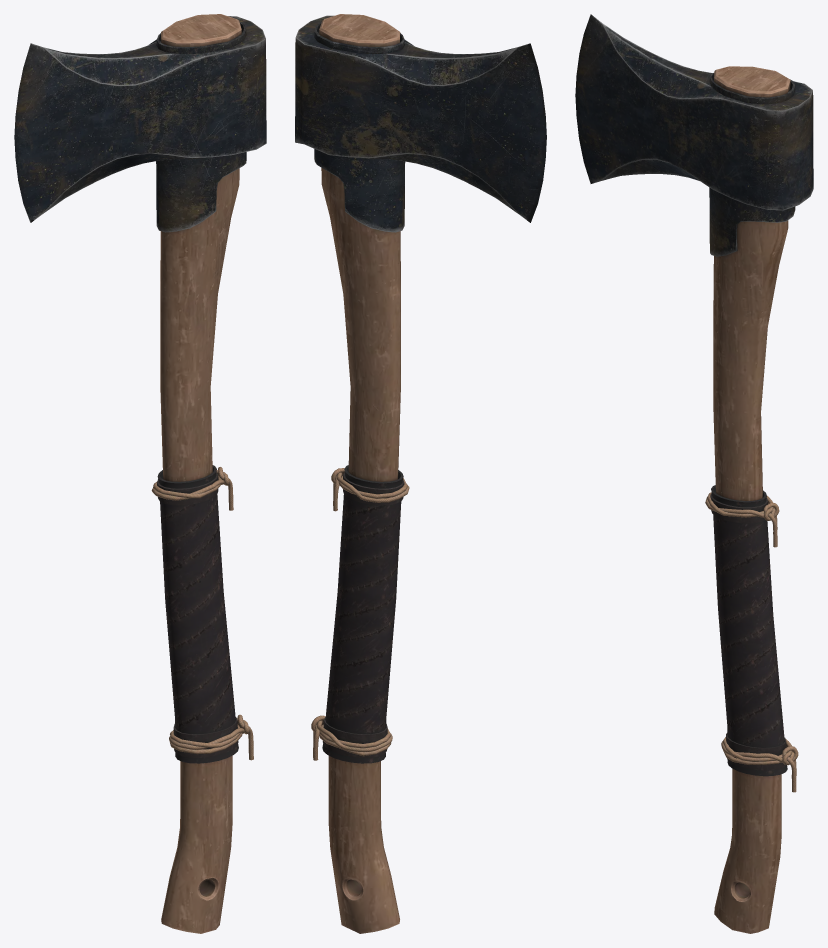
Rendered from axe_with_leather_wrap-opt.glb.
The picture shows the model from 3 angles, left to right: view 1: azimuth 30°, elevation 25°; view 2: azimuth 150°, elevation 25°; view 3: azimuth 330°, elevation 25°; orthographic projection. The views are drawn at different scales.
Parts seen in each view (by area): view 1: Blade_low_M_Axe_0, Body_low_M_Body_0, Rope_1_low_M_Leather_0; view 2: Blade_low_M_Axe_0, Body_low_M_Body_0, Rope_1_low_M_Leather_0; view 3: Blade_low_M_Axe_0, Body_low_M_Body_0, Rope_1_low_M_Leather_0.
Boxes of the visible parts, bbox=[...] form: Blade_low_M_Axe_0: bbox=[14, 16, 266, 232]; Body_low_M_Body_0: bbox=[160, 14, 241, 933]; Rope_1_low_M_Leather_0: bbox=[151, 465, 253, 763]; Blade_low_M_Axe_0: bbox=[295, 15, 546, 232]; Body_low_M_Body_0: bbox=[319, 14, 400, 933]; Rope_1_low_M_Leather_0: bbox=[311, 465, 409, 763]; Blade_low_M_Axe_0: bbox=[575, 14, 813, 256]; Body_low_M_Body_0: bbox=[713, 66, 790, 933]; Rope_1_low_M_Leather_0: bbox=[705, 485, 798, 792].
Size of the model in its own units: 0.0214 by 0.0779 by 0.00597.
3 materials, 3 textured.
